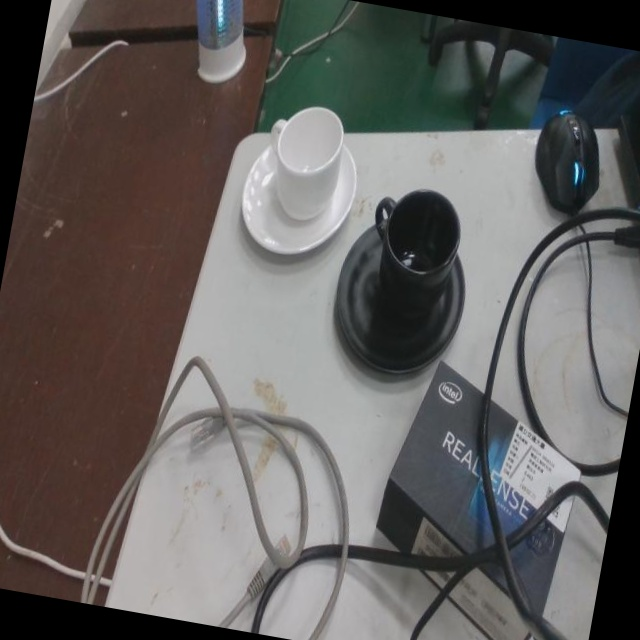black: (337, 184, 468, 382)
white: (243, 101, 359, 262)
